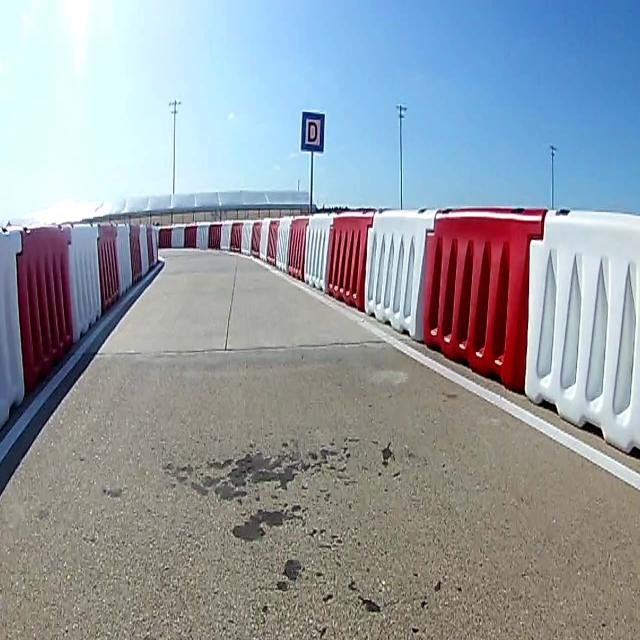durak: (302, 110, 324, 150)
